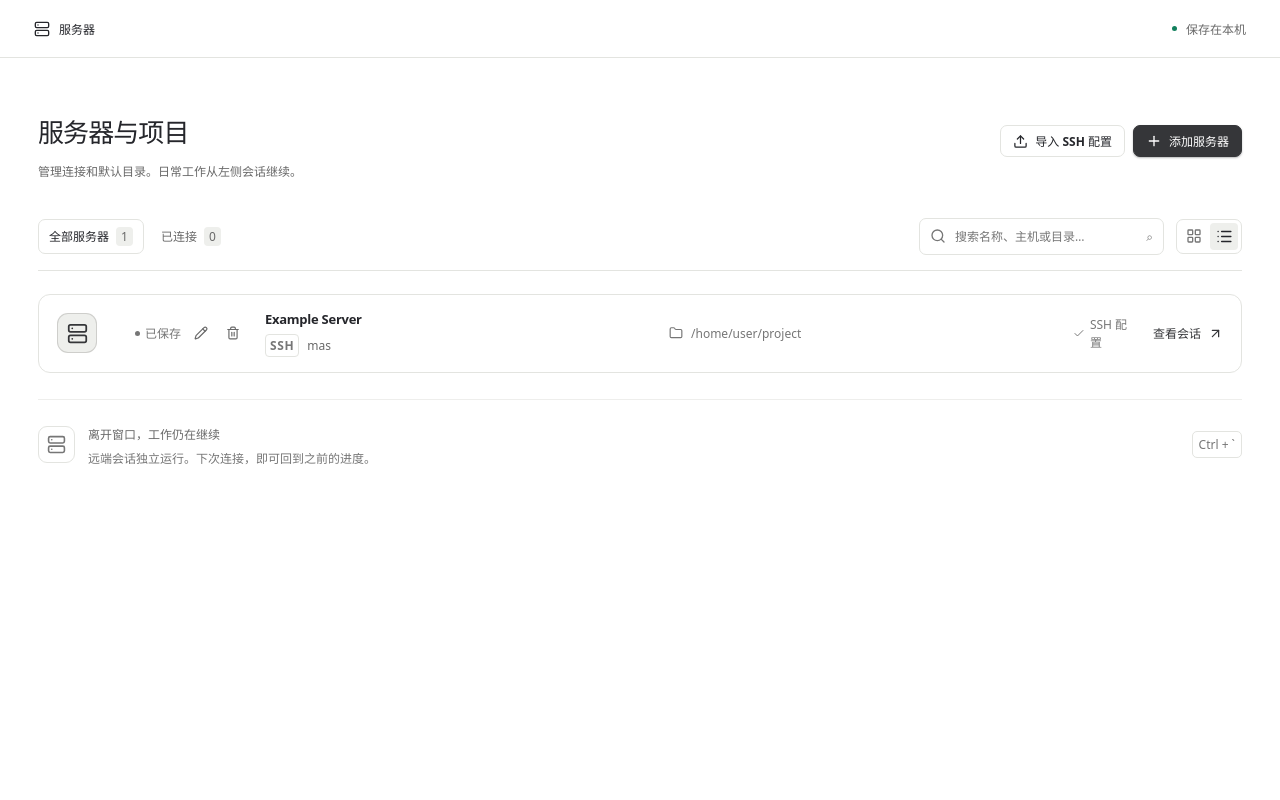
Test: server deletion › requires confirmation and allows cancelling without removing a server
Click the button named "删除服务器 Example Server" at x=233, y=333, box [221,321,245,345]
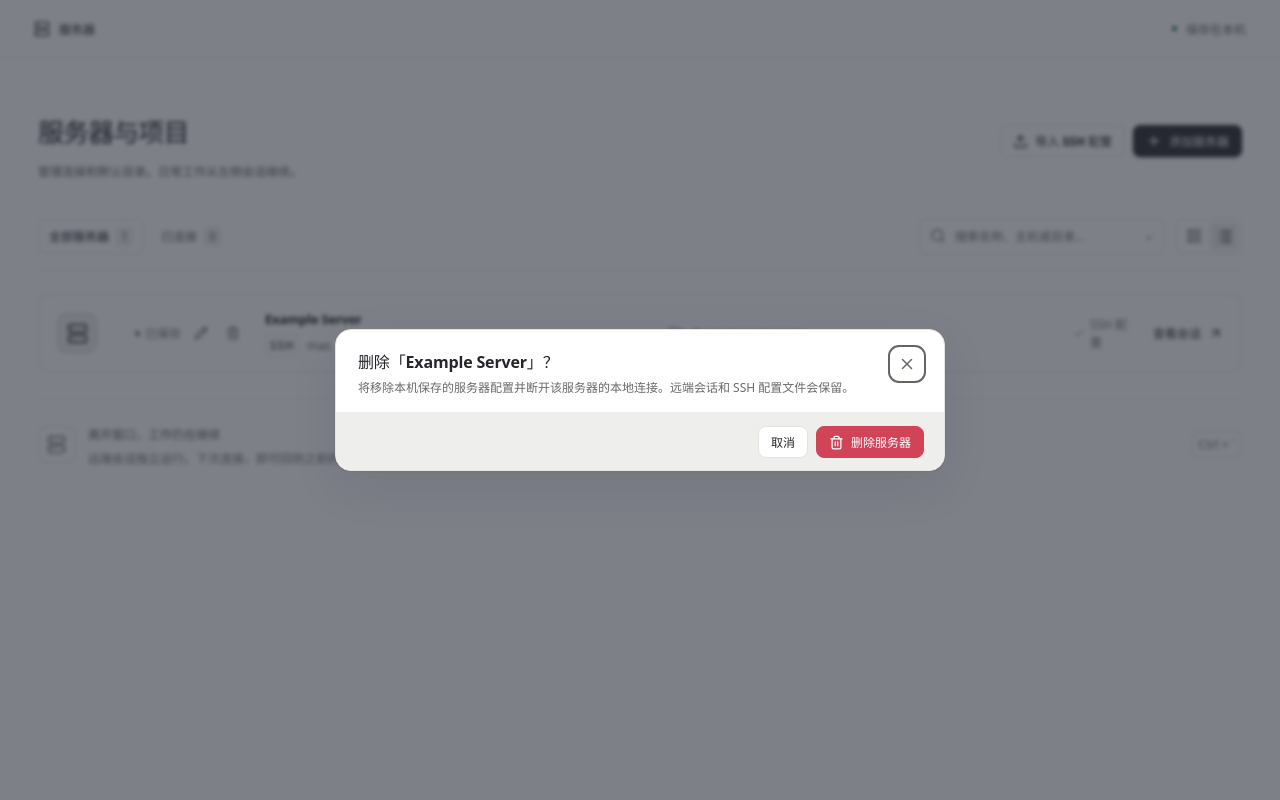
Now the dialog shows "Example Server", box [358,351,558,373]
Click the button "取消" at x=783, y=442, box [758,426,808,458]
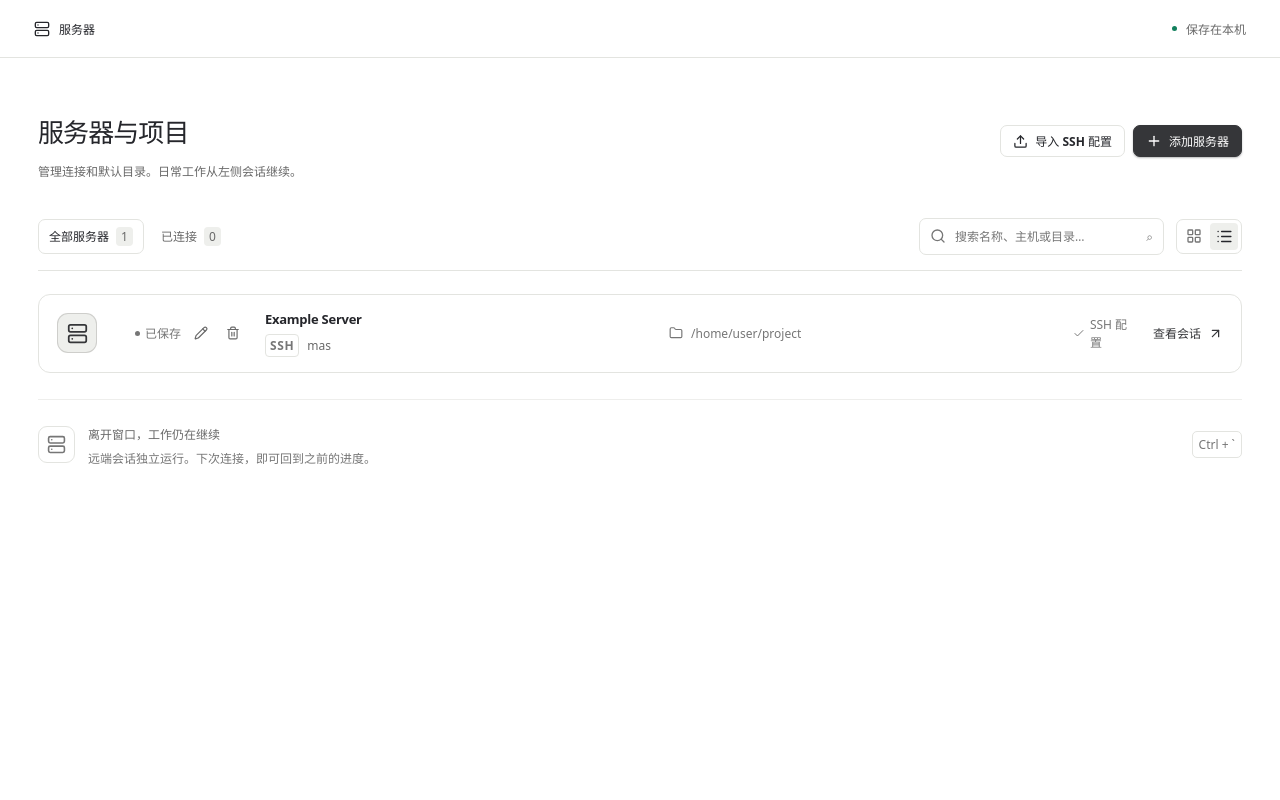
Now the dialog is gone
